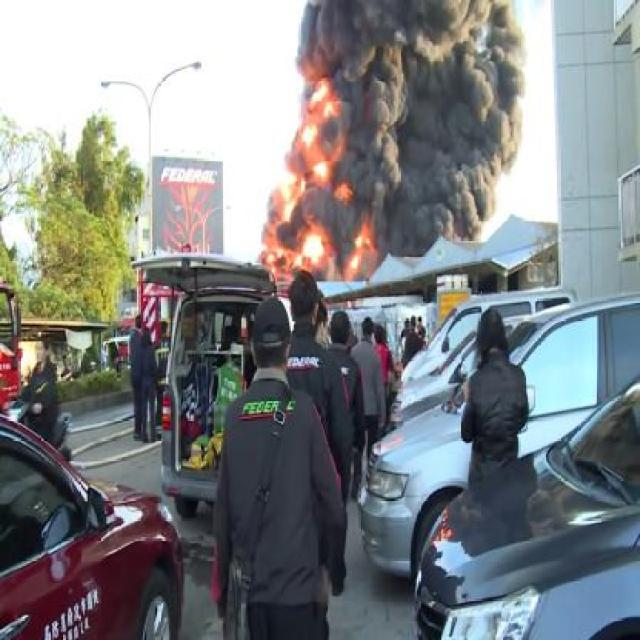Smoke: (298, 2, 522, 254)
